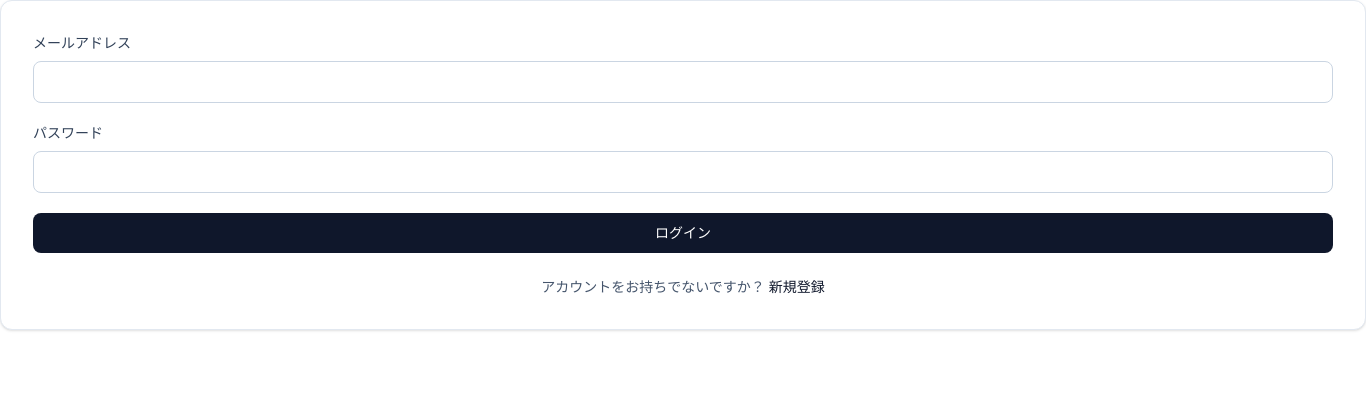
Test: LoginForm › 422の場合は入力エラーを表示する
Type "test@example.com" into the field labelled "メールアドレス" at (683, 82), box [33,61,1333,103]
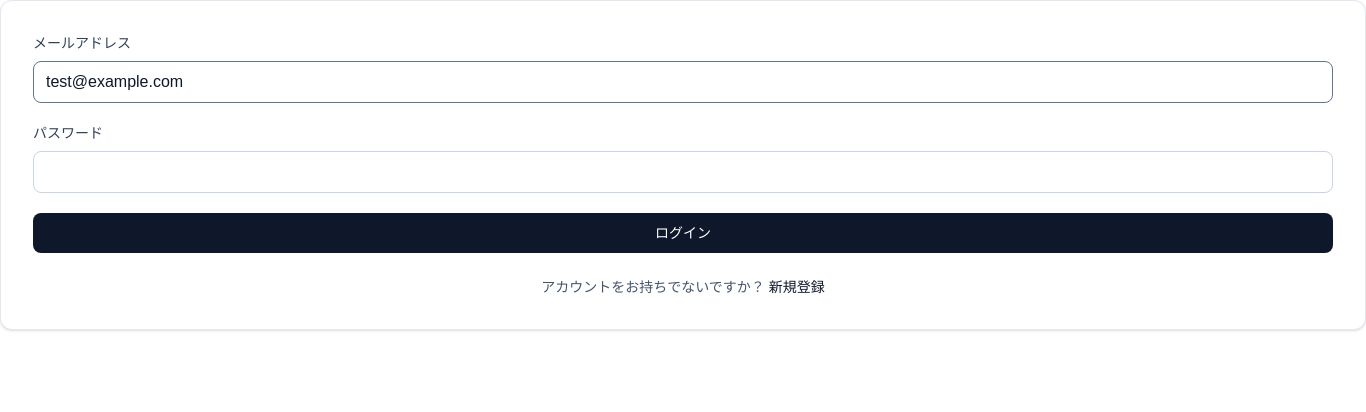
Type "password123" into the password field labelled "パスワード" at (683, 172), box [33,151,1333,193]
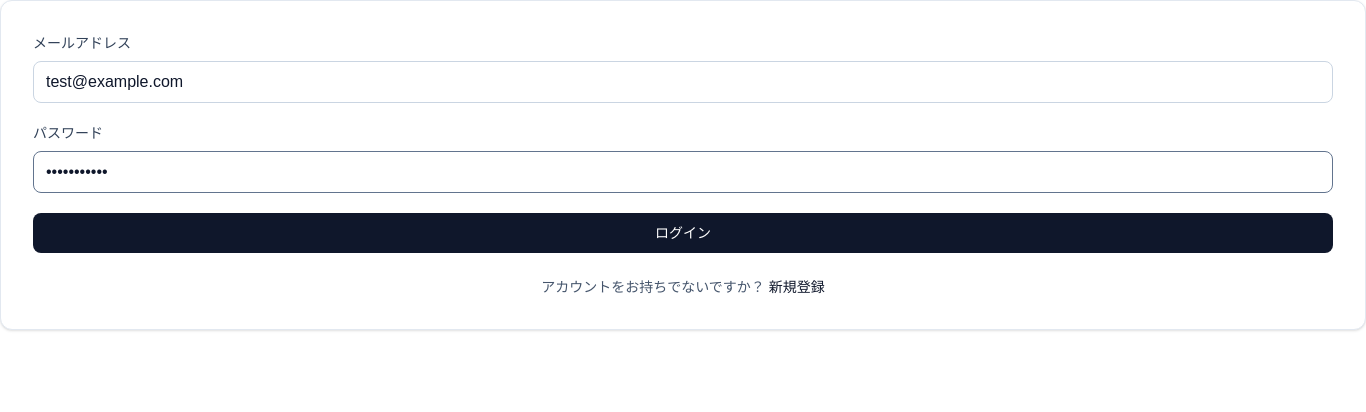
Click the button "ログイン" at (683, 233), box [33,213,1333,253]
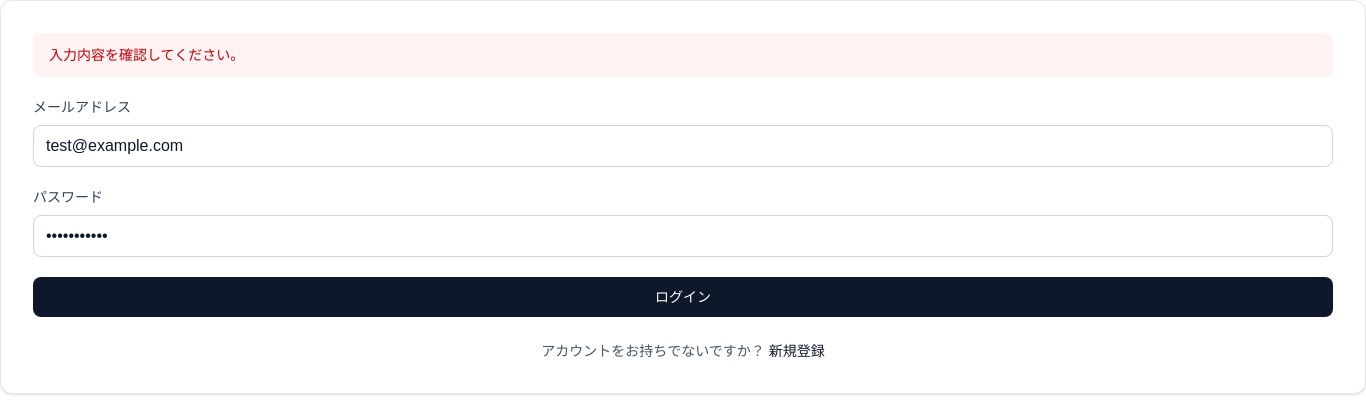
Expected: the message reads "入力内容を確認してください。", [49,47,244,63]
